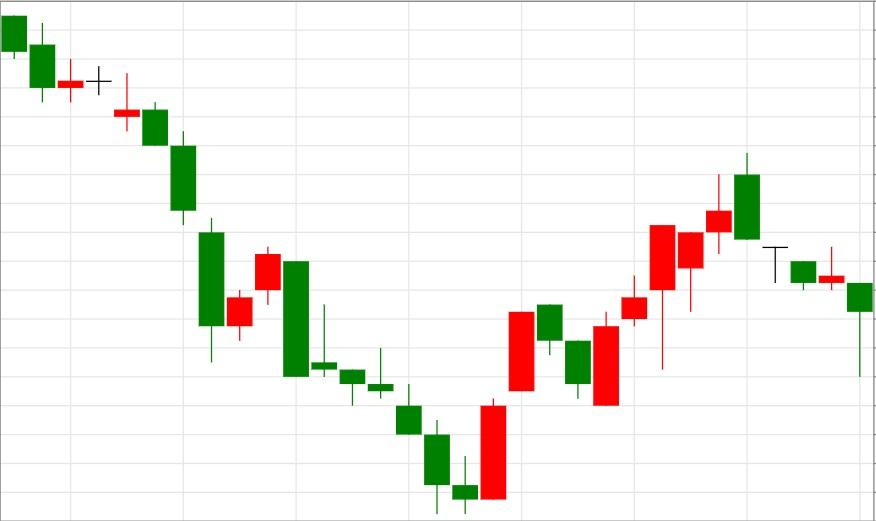morning_star_rise: (255, 245, 507, 515)
three_white_soldiers_rise: (536, 225, 676, 407)
